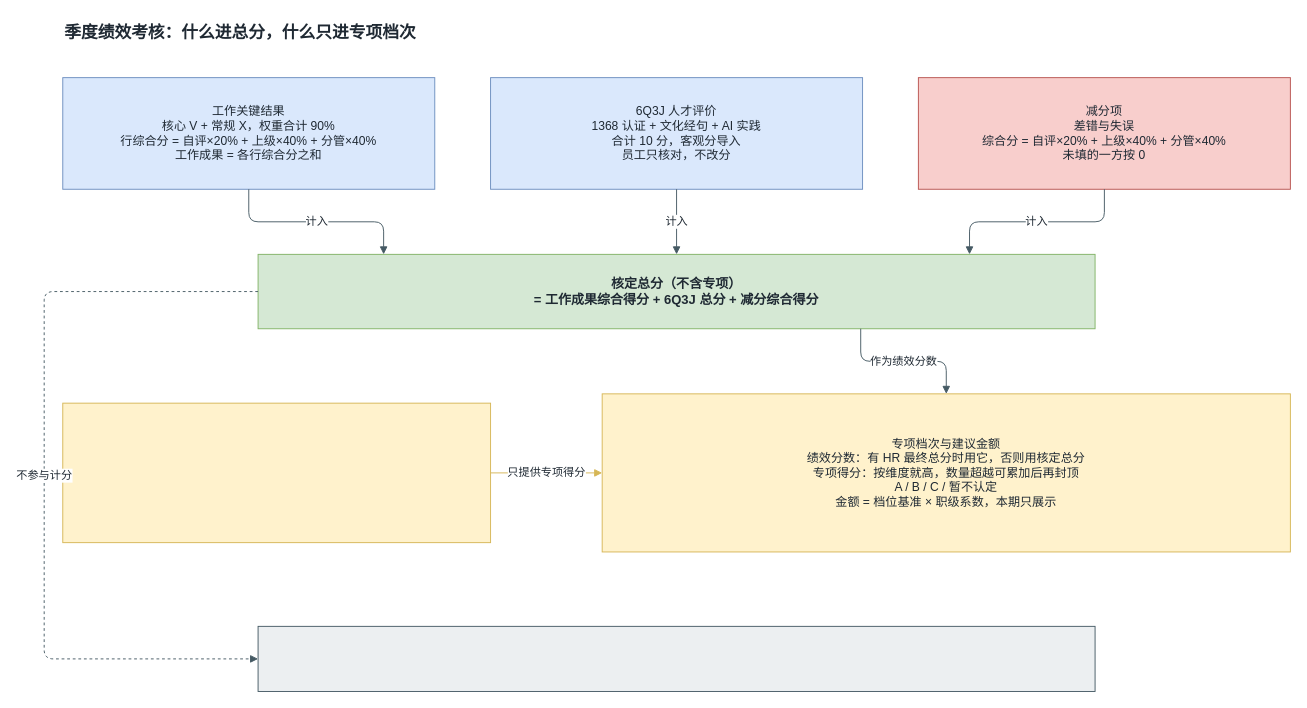
The diagram is 1307 pixels wide and 708 high, and some of its shapes have lost their labels. The shapes that lost their labels are listed below. From the top down, each one's centre as x and y in pixels, then its label:
the point at 276,472: 专项激励（选填，最多 3 条） 替代原来的加分项 自评分由超越类型自动带出 人才开发部写最终得分 不加入核定总分
the point at 676,658: 绩效面谈、下季核心目标（3 到 5 条） 只记录，不进入核定总分，也不进入专项得分
